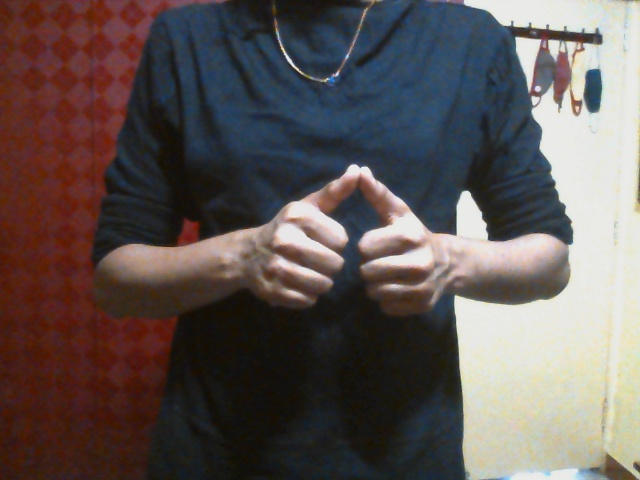A: (251, 163, 441, 318)
